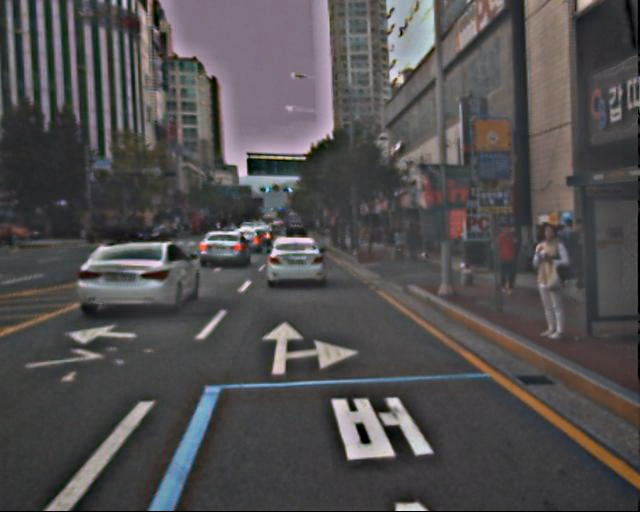person: (523, 225, 571, 343), (489, 221, 520, 297), (405, 222, 422, 263), (392, 228, 407, 264)
